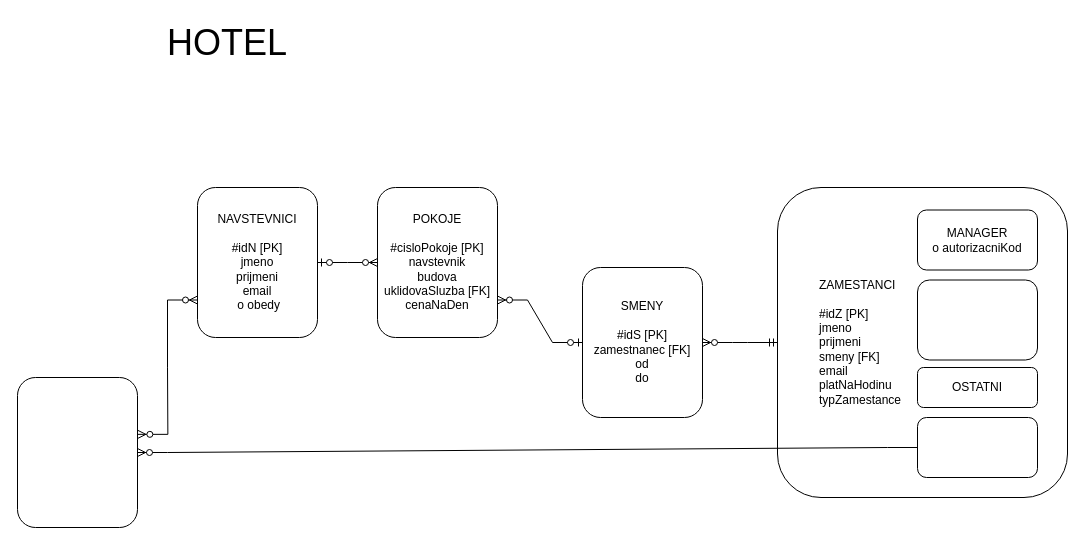
This 1085x545 diagram has some shape labels left out. Each missing label, with the box of its shape:
KUCHAR o cisloPorkmu: (916, 416, 1038, 478)
POKRMY #cislo nazev recept dobaPripravy idNavsevnika [FK]: (16, 376, 138, 528)
UKLIDOVA SLUZBA o UPK (univerzalni pristupovy kod): (916, 279, 1038, 360)
